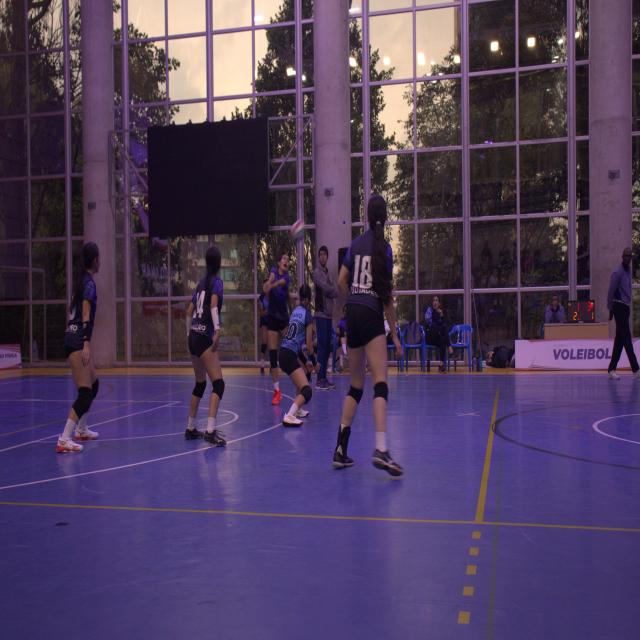volleyball: (291, 217, 307, 243)
